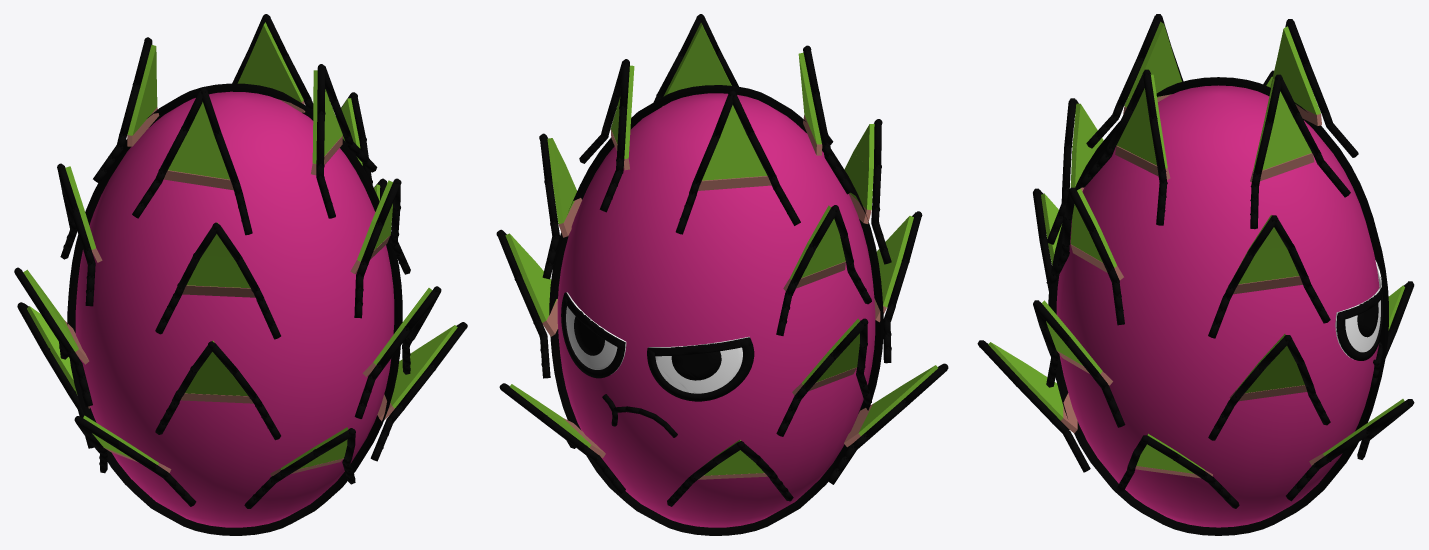
Rendered from DragonfruitVenom.glb.
3 views of the same model, side by side, from view 1: azimuth 30°, elevation 25°; view 2: azimuth 150°, elevation 25°; view 3: azimuth 270°, elevation 25° (orthographic).
Parts seen in each view (by area): view 1: Skin, Outline, ScaleTip, ScaleMid; view 2: Skin, Outline, ScaleTip, ScaleMid, Eyes; view 3: Skin, Outline, ScaleTip, ScaleMid, Eyes.
Part boxes in pixels (x1,y1,x2,y2): Skin: (75, 91, 394, 527); Outline: (14, 14, 467, 535); ScaleTip: (23, 22, 457, 469); ScaleMid: (64, 99, 394, 476); Skin: (557, 93, 875, 527); Outline: (496, 14, 948, 535); ScaleTip: (505, 22, 937, 475); ScaleMid: (542, 106, 886, 479); Eyes: (566, 292, 749, 393); Skin: (1056, 85, 1379, 527); Outline: (977, 14, 1414, 535); ScaleTip: (988, 21, 1404, 473); ScaleMid: (1057, 94, 1324, 478); Eyes: (1335, 260, 1381, 359).
Size of the model in its own units: 1.96 by 2.27 by 1.87.
